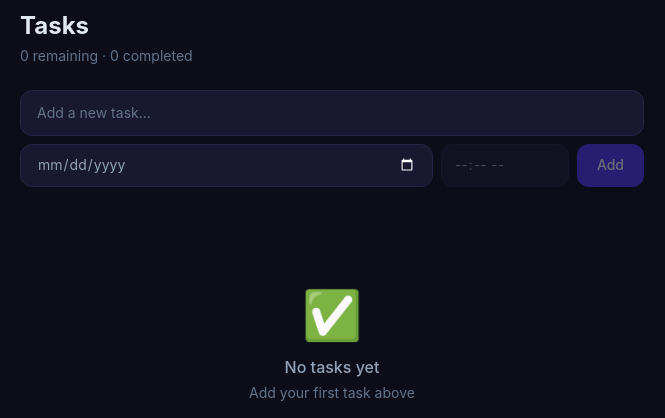
TasksPage — add task › adds a task via button click
The width and height of the screenshot is (665, 418).
In the field with placeholder "Add a new task…": (332, 113) left=20, top=90, right=644, bottom=136, type "Buy milk"
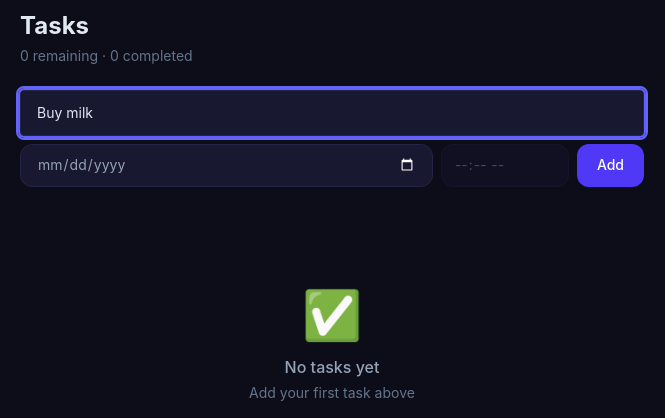
Click the button with aria-label "add task": (610, 165) left=577, top=144, right=644, bottom=187
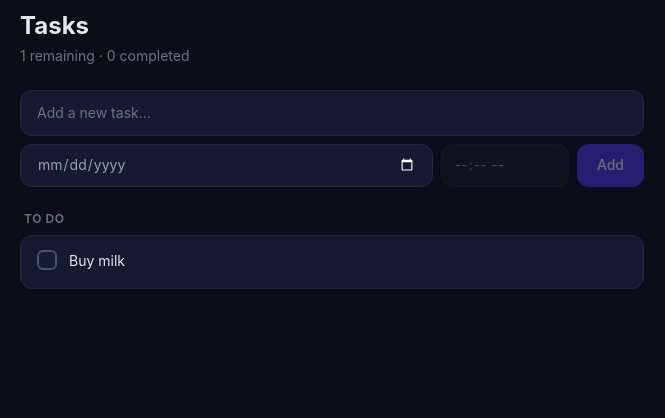
Expected: the text "Buy milk" is shown, left=69, top=252, right=125, bottom=269
